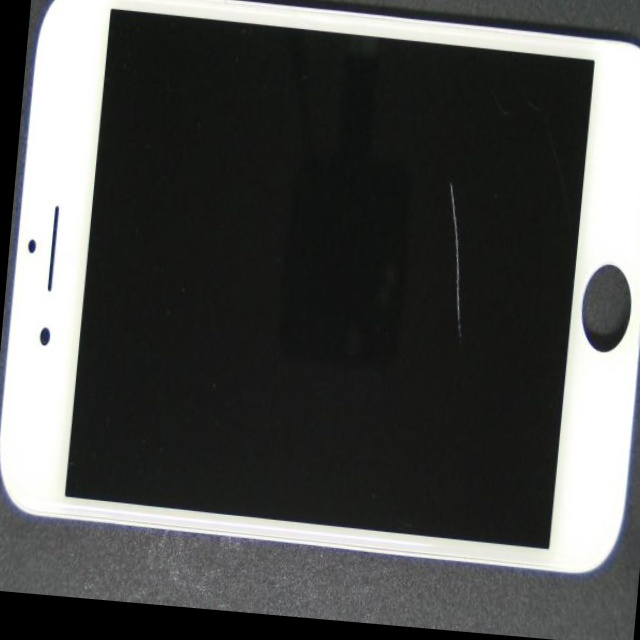scratch: (231, 0, 640, 326)
